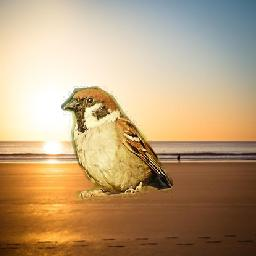Sparrow: (61, 86, 173, 202)
